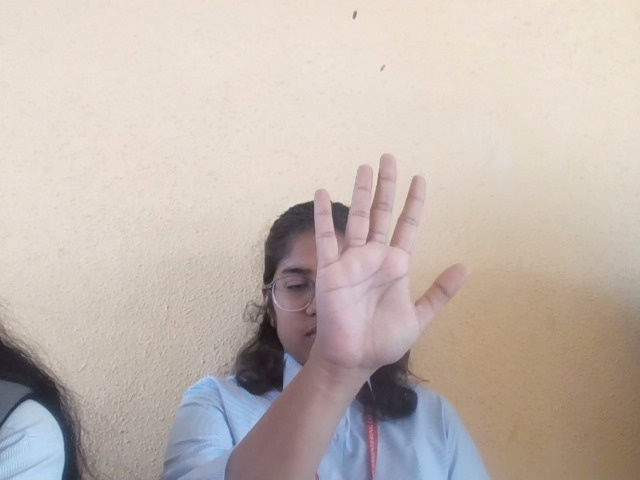Hello: (309, 149, 471, 370)
